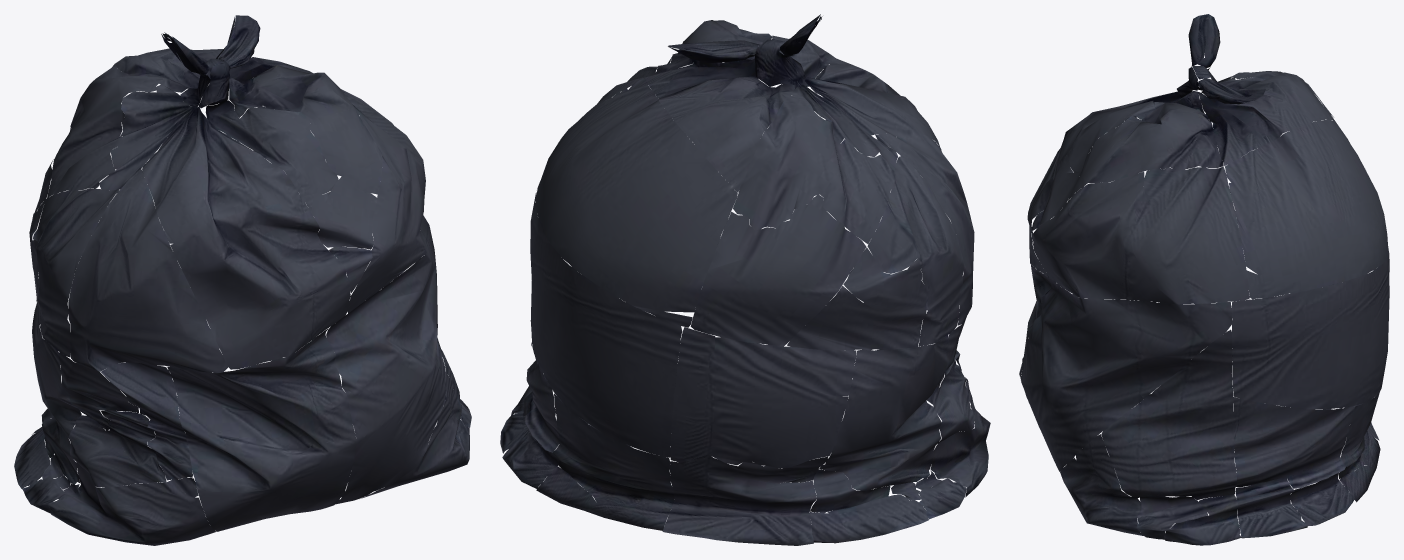
File: saco_lixo.glb
The picture shows the model from 3 angles, left to right: view 1: azimuth 30°, elevation 25°; view 2: azimuth 150°, elevation 25°; view 3: azimuth 270°, elevation 25°; orthographic projection. The views are drawn at different scales.
Parts seen in each view (by area): view 1: Prop_saco_lixo; view 2: Prop_saco_lixo; view 3: Prop_saco_lixo.
Boxes of the visible parts, left/top/right/bottom form: Prop_saco_lixo: left=14, top=15, right=471, bottom=545; Prop_saco_lixo: left=500, top=14, right=990, bottom=545; Prop_saco_lixo: left=1019, top=14, right=1389, bottom=545.
Bounding box in the file's own units: 0.7165 × 0.72 × 0.5958.
Materials: 1 (1 with a texture image).
